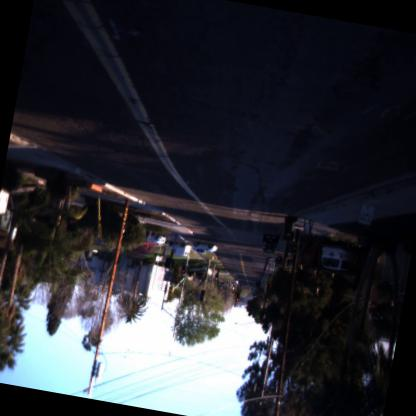trafficlight: (235, 292, 240, 302)
